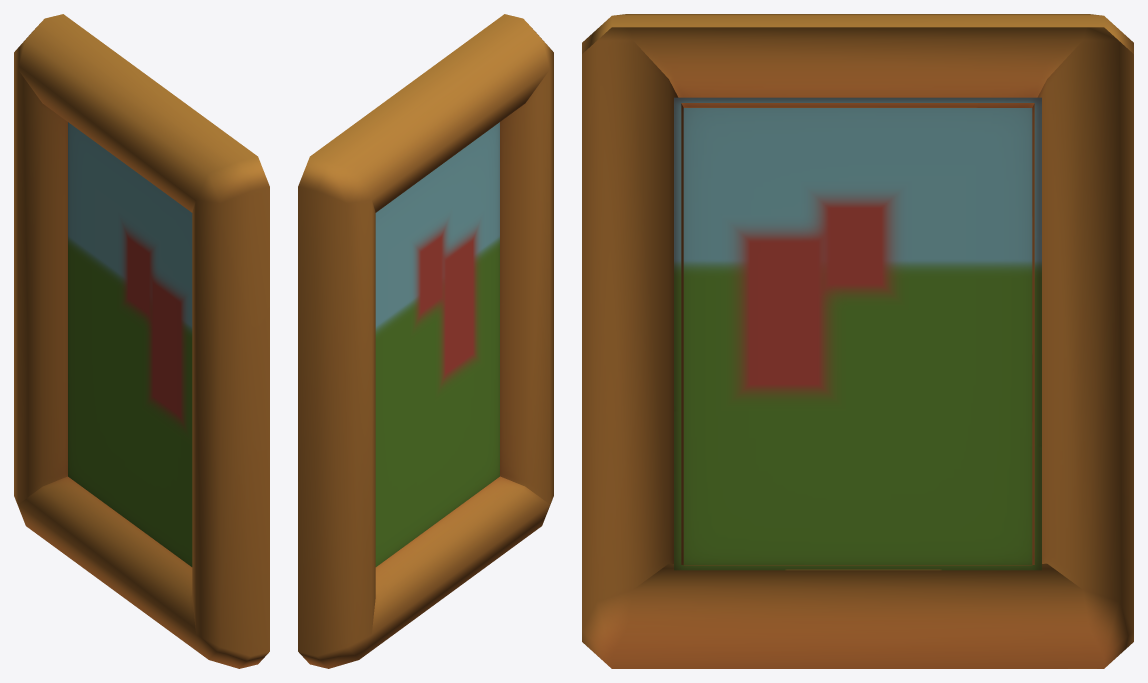
File: frame_01.fbx
The picture shows the model from 3 angles, left to right: view 1: azimuth 30°, elevation 25°; view 2: azimuth 150°, elevation 25°; view 3: azimuth 270°, elevation 25°; orthographic projection. The views are drawn at different scales.
Parts seen in each view (by area): view 1: frame_01; view 2: frame_01; view 3: frame_01.
Part boxes in pixels (<box>): frame_01: <box>14,14,269,668</box>; frame_01: <box>298,14,553,668</box>; frame_01: <box>582,14,1133,668</box>.
Bounding box in the file's own units: 6.85 × 62.05 × 48.36.
